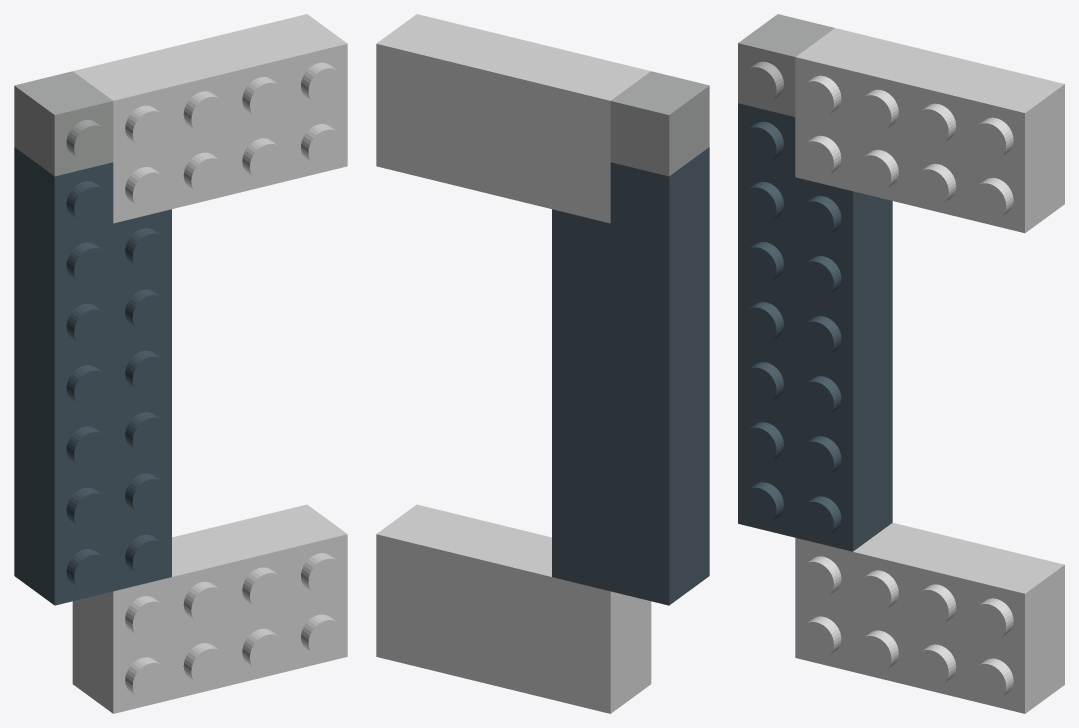
The model's file is current.glb.
3 renders of one model, left to right at view 1: azimuth 30°, elevation 25°; view 2: azimuth 150°, elevation 25°; view 3: azimuth 330°, elevation 25°, orthographic. The views are drawn at different scales.
Visible parts, largest first — view 1: world; view 2: world; view 3: world.
Part boxes in pixels (box(x1,y1,x2,y2)): world: box(14, 14, 347, 713); world: box(376, 14, 709, 713); world: box(738, 14, 1064, 713).
Bounding box in the file's own units: 40 × 80 × 11.4.
